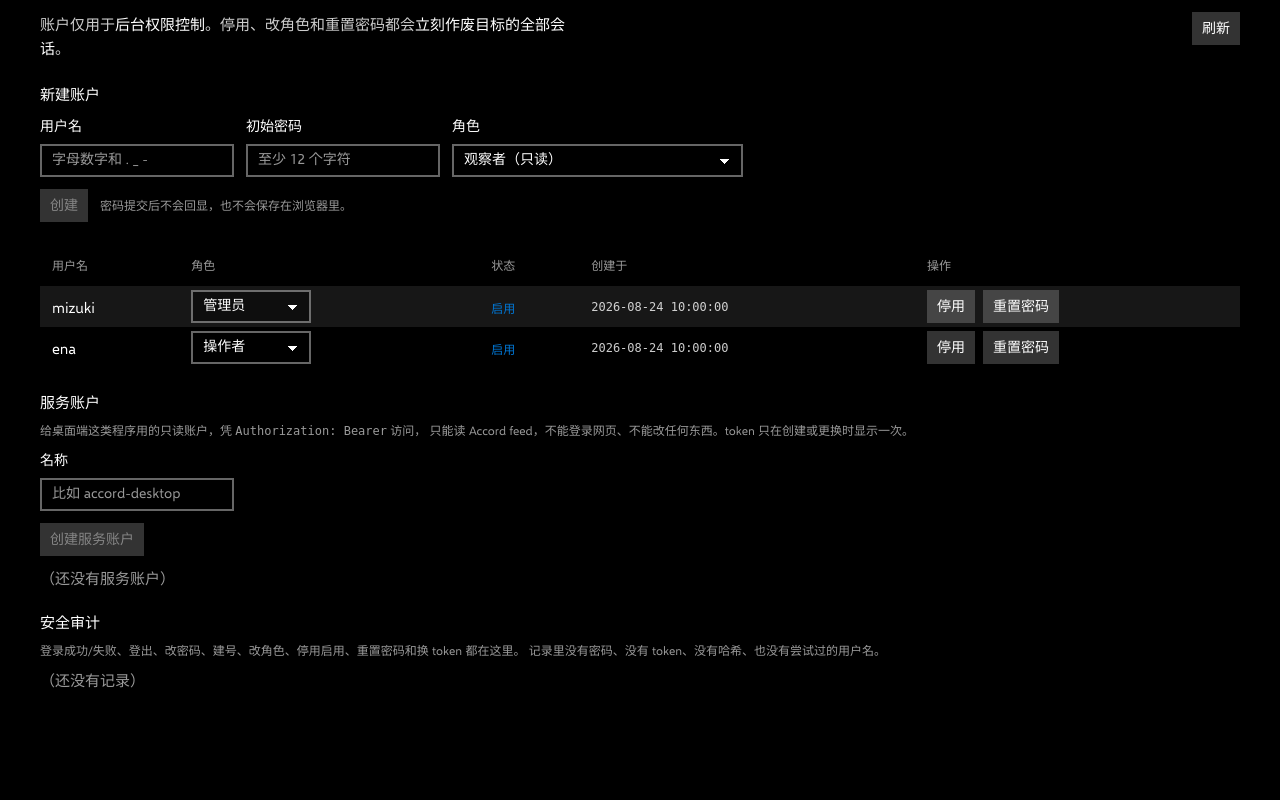
用户管理 › 停用成功之后说出踢掉了几张会话
Click the button "停用" in the row of "ena" at (951, 348), box [927, 331, 975, 364]
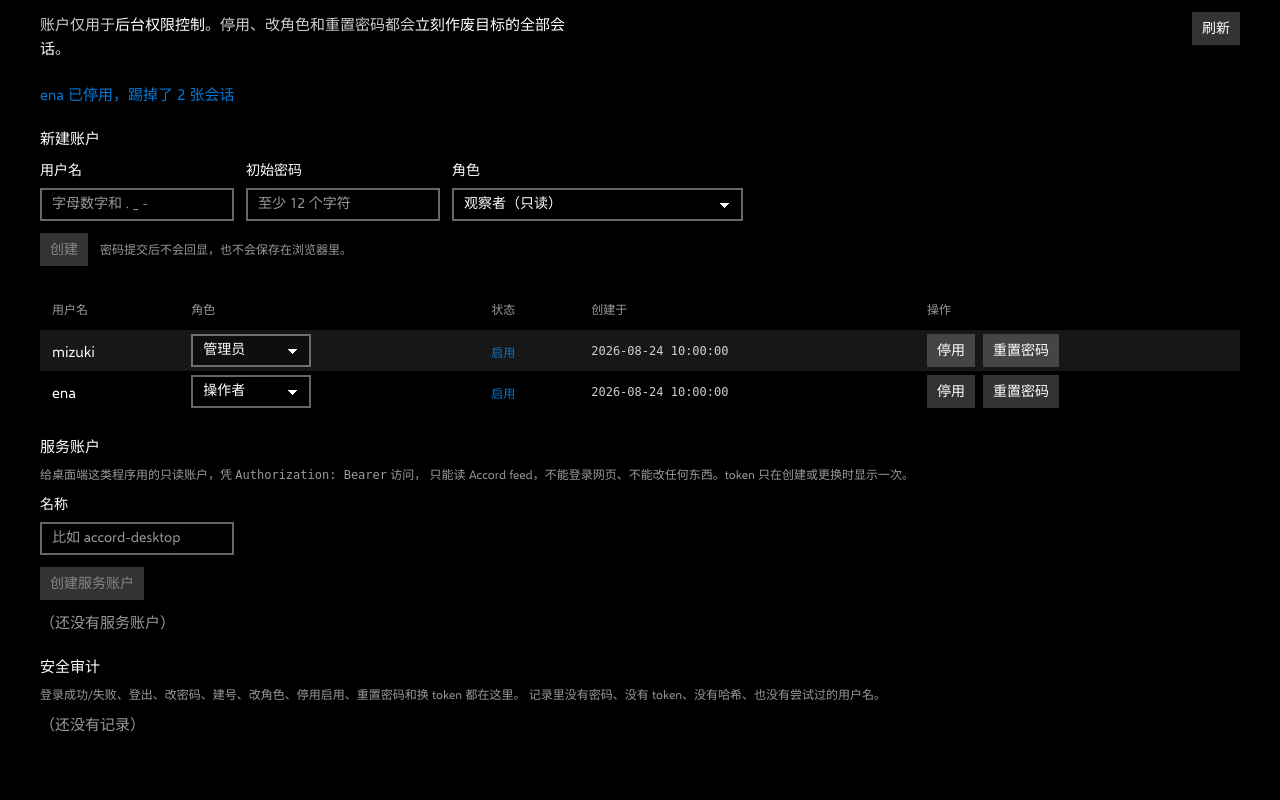
expect the text "ena 已停用，踢掉了 2 张会话" is shown: met, box [40, 85, 234, 103]
